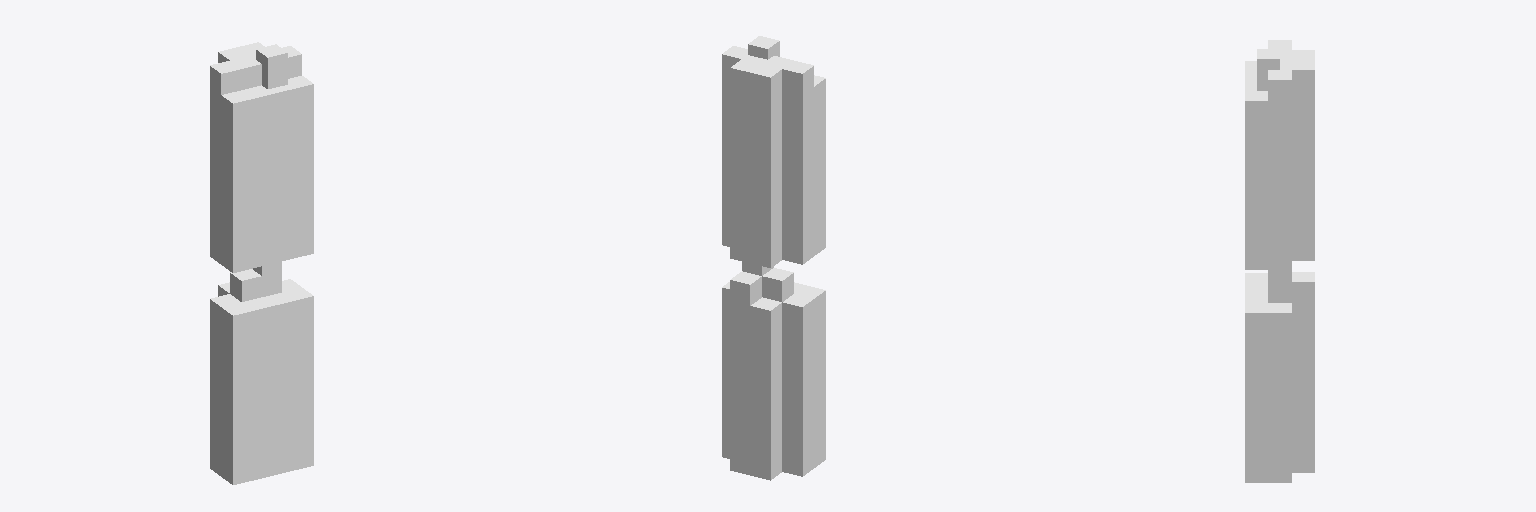
The model's file is RLeg.obj.
The picture shows the model from 3 angles: view 1: azimuth 30°, elevation 25°; view 2: azimuth 150°, elevation 25°; view 3: azimuth 270°, elevation 25°; orthographic projection.
Parts seen in each view (by area): view 1: object 1; view 2: object 1; view 3: object 1.
Boxes of the visible parts, <box> form: object 1: <box>210,42,313,484</box>; object 1: <box>722,36,825,480</box>; object 1: <box>1245,40,1314,482</box>.
Bounding box in the file's own units: 0.8 × 3.9 × 0.6.